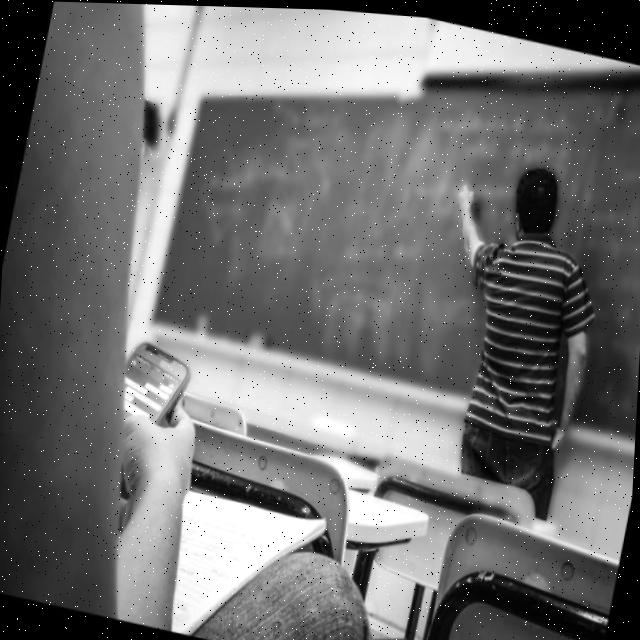phone: (114, 335, 196, 434)
